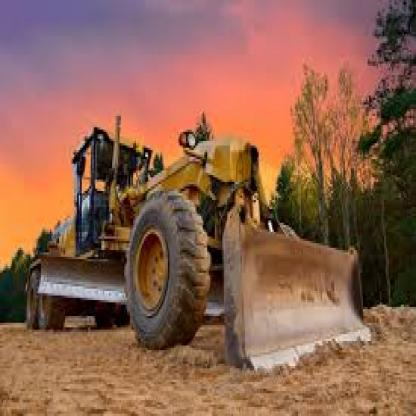bull_dozer/loader/grader: (17, 120, 387, 412)
